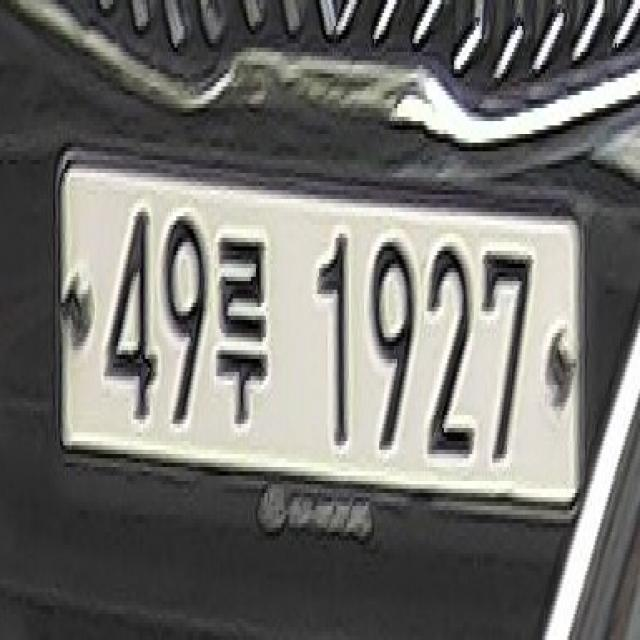1: (314, 219, 356, 457)
2: (428, 232, 472, 473)
4: (103, 191, 160, 436)
7: (480, 230, 536, 478)
9: (162, 206, 212, 440), (371, 224, 414, 457)
license_plate: (45, 148, 596, 542)
lu: (214, 207, 278, 443)
